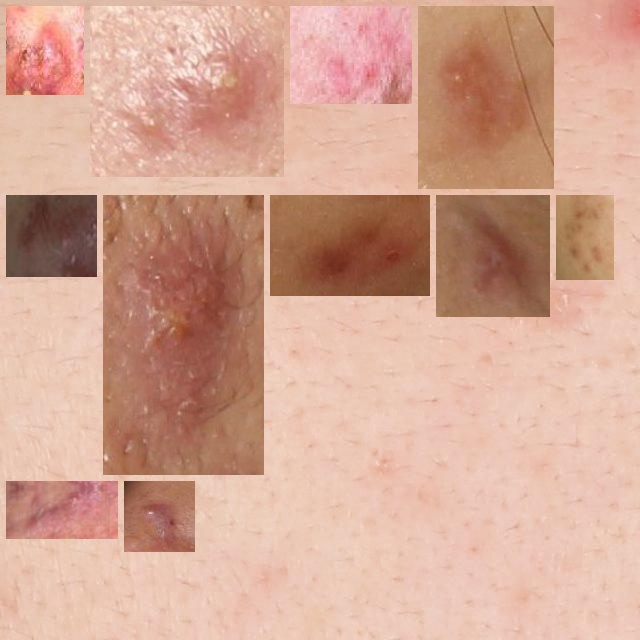nodule: (111, 203, 256, 467), (98, 14, 276, 169), (426, 14, 546, 181), (278, 203, 422, 288), (444, 203, 542, 309), (298, 14, 404, 96), (14, 203, 89, 269), (14, 489, 110, 538), (14, 14, 76, 87), (132, 489, 187, 544), (564, 203, 606, 272)
